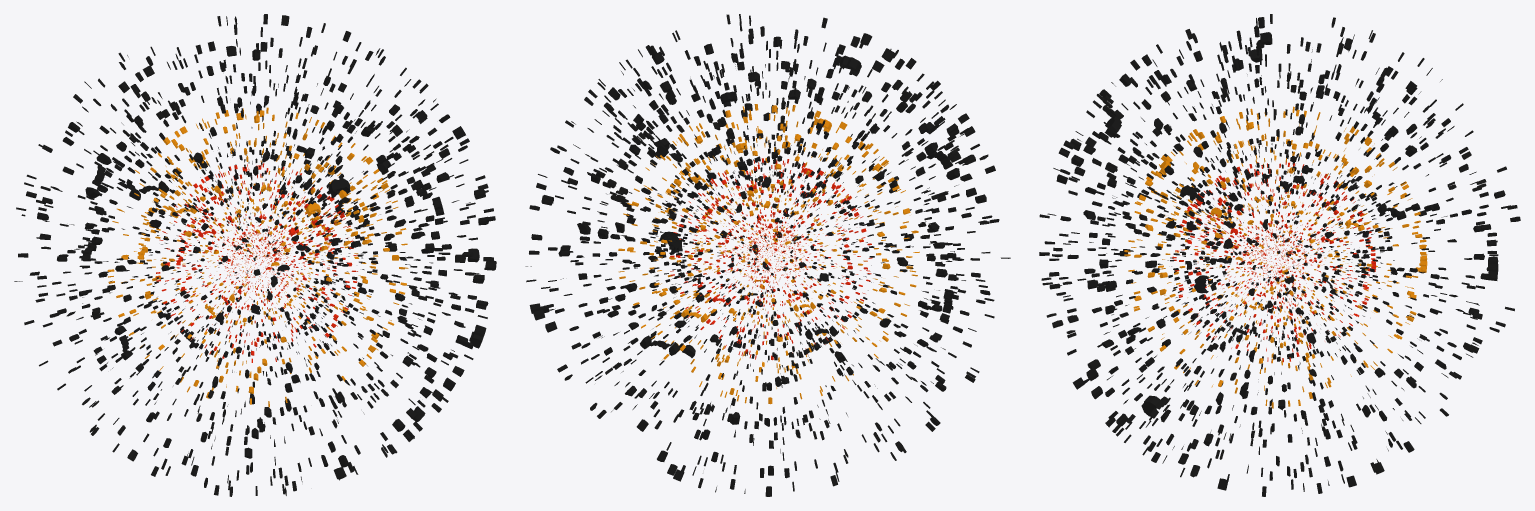
Rendered from vfx explosion.glb.
3 renders of one model, left to right at view 1: azimuth 30°, elevation 25°; view 2: azimuth 150°, elevation 25°; view 3: azimuth 270°, elevation 25°, orthographic.
Parts seen in each view (by area): view 1: Sphere ext 2; view 2: Sphere ext 2; view 3: Sphere ext 2.
Part boxes in pixels (<box>): Sphere ext 2: <box>14,14,496,496</box>; Sphere ext 2: <box>525,14,1010,496</box>; Sphere ext 2: <box>1039,14,1520,496</box>.
Bounding box in the file's own units: 7.8 × 7.75 × 7.73.
